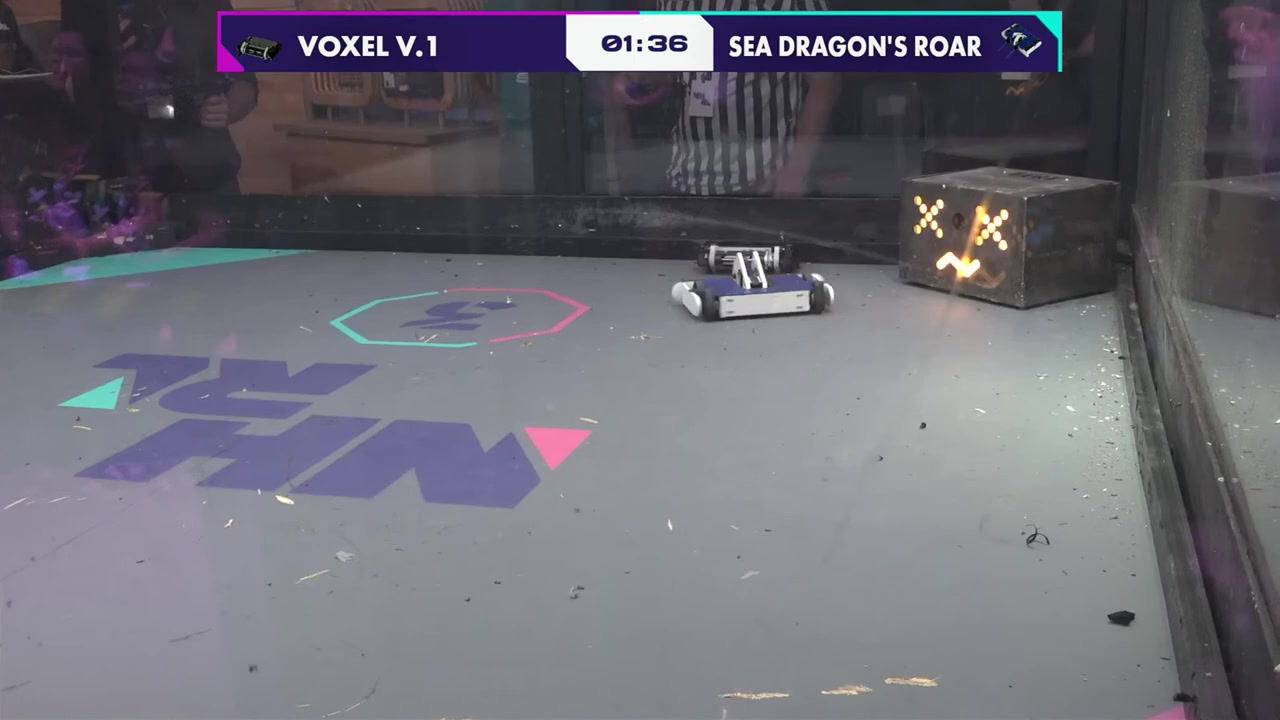combatbot: (672, 251, 835, 318), (703, 243, 793, 273)
debris: (1165, 687, 1201, 718), (1105, 608, 1138, 628)
housebot: (897, 166, 1118, 309)
